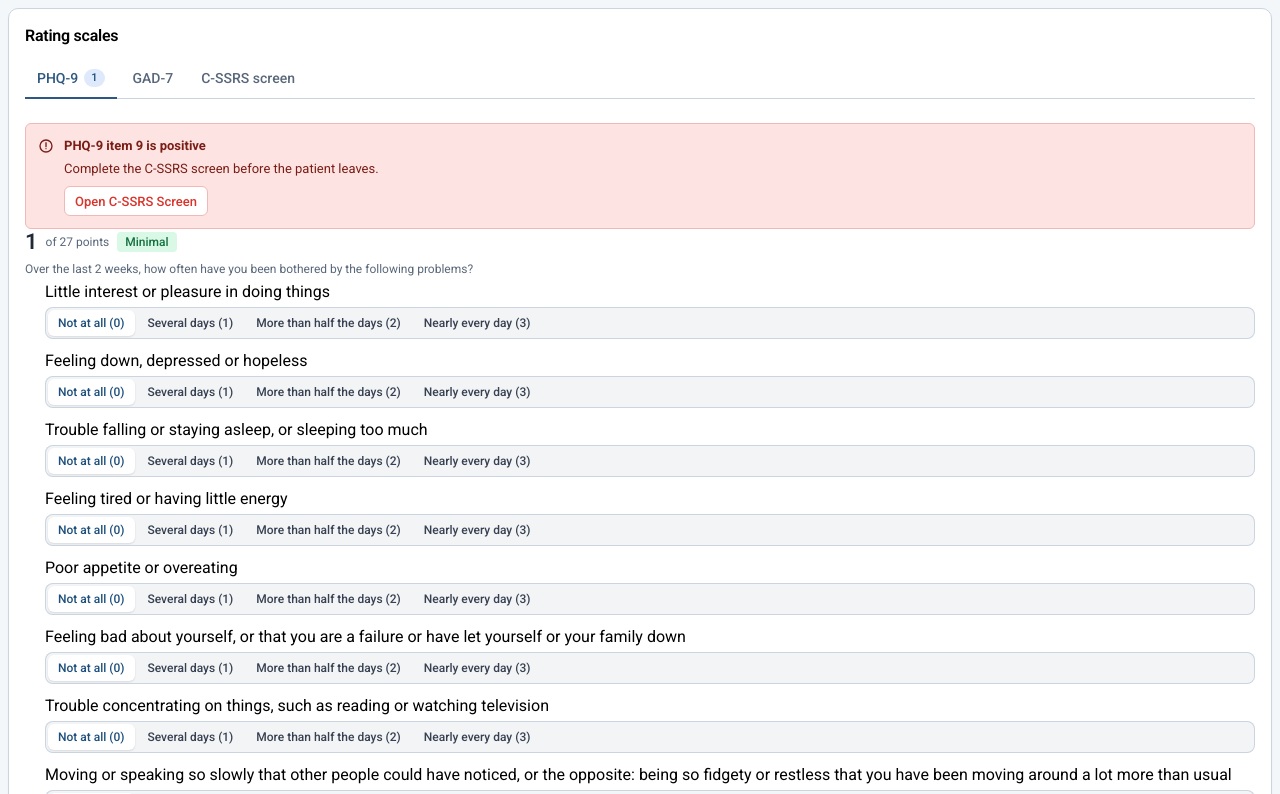
PsychRatingScales › escalates a positive item 9 and opens the C-SSRS screen
Check: the message shows "PHQ-9 item 9 is positive", box [64,138,206,153]
Click the button "Open C-SSRS Screen": {"x": 136, "y": 201} [64,186,208,216]
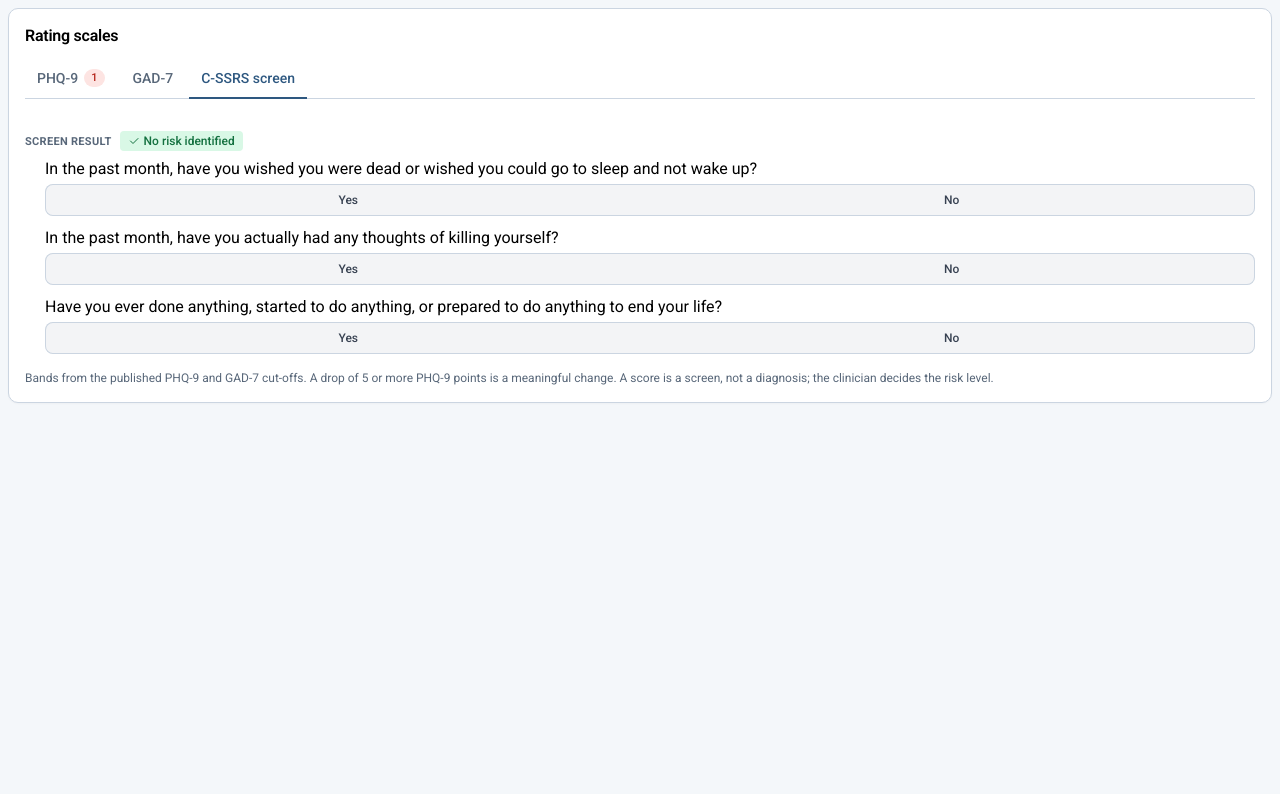
Check: the element named "In the past month, have you wished you were dead or wished you could go to sleep and not wake up?" is shown, box [45,184,1255,216]
